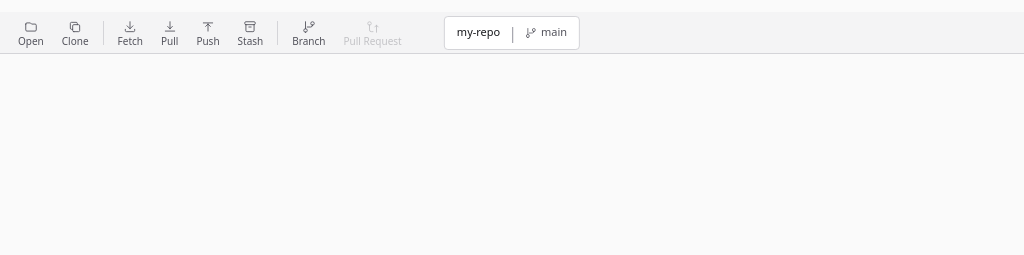
Test: ActionToolbar › Pull flyover › opens the pull form when Pull is clicked
Click the button with test id "toolbar-btn-Pull" at (170, 32), box x1=153 y1=16 x2=186 y2=50
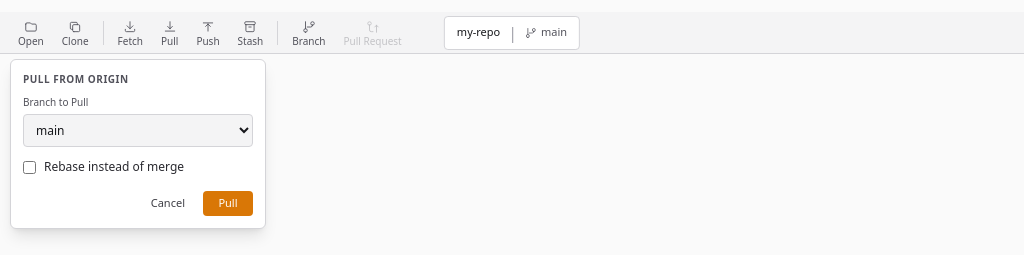
Expected: the heading "Pull from Origin" is shown, x1=23 y1=72 x2=128 y2=86
